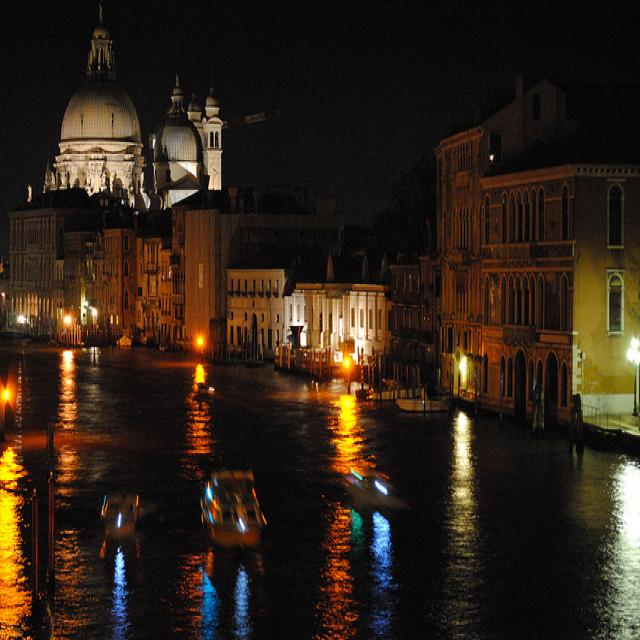Boat: (195, 445, 276, 567), (355, 358, 427, 417), (93, 481, 141, 556), (392, 380, 455, 425)
